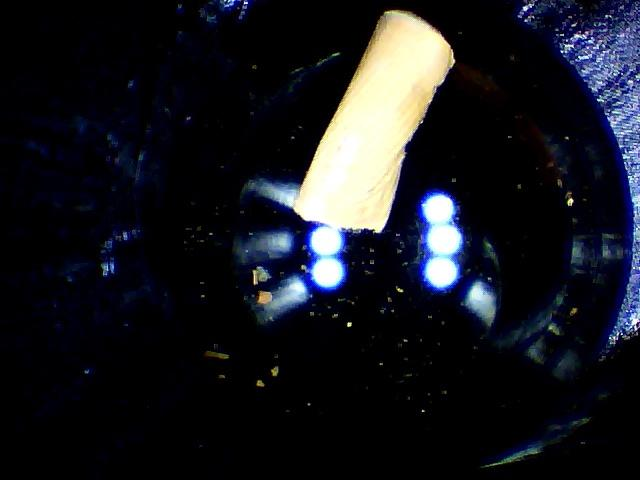megot: (279, 5, 466, 233)
